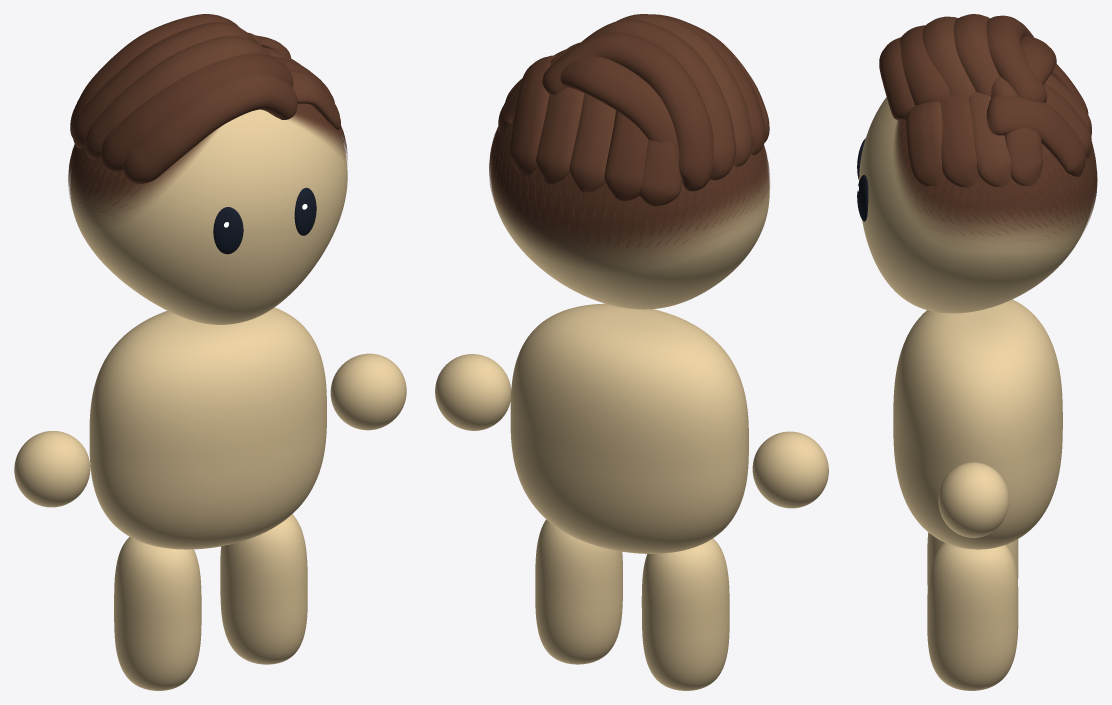
Rendered from Taper-skin1.glb.
The picture shows the model from 3 angles, left to right: view 1: azimuth 30°, elevation 25°; view 2: azimuth 150°, elevation 25°; view 3: azimuth 270°, elevation 25°; orthographic projection. The views are drawn at different scales.
Parts seen in each view (by area): view 1: Skin / compact torso, Skin / soft oval head, Skin / leg -1, Skin / leg 1, Hair / Taper top 0, Hair / Taper short sides, Hair / Taper top 1, Hair / Taper top 2, Skin / hand 1, Skin / hand -1, Hair / Taper top 3, Hair / Taper top 4 (+4 smaller); view 2: Skin / compact torso, Hair / Taper short sides, Skin / soft oval head, Skin / leg -1, Skin / leg 1, Hair / Taper top 4, Hair / Taper rear bridge, Skin / hand -1, Skin / hand 1, Hair / Taper top 3, Hair / Taper fine direction, Hair / Taper top 2 (+6 smaller); view 3: Skin / compact torso, Skin / soft oval head, Hair / Taper short sides, Skin / leg 1, Skin / hand 1, Hair / Taper crown 4, Hair / Taper top 4, Hair / Taper short sweep 1, Hair / Taper short sweep 0, Hair / Taper top 3, Hair / Taper short sweep 2, Hair / Taper top 1 (+10 smaller).
Boxes of the visible parts, x1=… form: Skin / compact torso: x1=89, y1=307, x2=326, y2=549; Skin / soft oval head: x1=70, y1=109, x2=347, y2=324; Skin / leg -1: x1=114, y1=537, x2=201, y2=690; Skin / leg 1: x1=220, y1=514, x2=307, y2=664; Hair / Taper top 0: x1=123, y1=73, x2=297, y2=184; Hair / Taper short sides: x1=68, y1=103, x2=347, y2=221; Hair / Taper top 1: x1=101, y1=53, x2=293, y2=171; Hair / Taper top 2: x1=85, y1=35, x2=272, y2=159; Skin / hand 1: x1=330, y1=353, x2=406, y2=430; Skin / hand -1: x1=14, y1=431, x2=90, y2=507; Hair / Taper top 3: x1=73, y1=22, x2=259, y2=148; Hair / Taper top 4: x1=70, y1=14, x2=239, y2=138; Skin / compact torso: x1=510, y1=303, x2=748, y2=553; Hair / Taper short sides: x1=489, y1=119, x2=769, y2=265; Skin / soft oval head: x1=491, y1=170, x2=769, y2=309; Skin / leg -1: x1=641, y1=538, x2=729, y2=690; Skin / leg 1: x1=535, y1=519, x2=622, y2=664; Hair / Taper top 4: x1=542, y1=32, x2=713, y2=191; Hair / Taper rear bridge: x1=560, y1=56, x2=679, y2=164; Skin / hand -1: x1=752, y1=431, x2=828, y2=508; Skin / hand 1: x1=435, y1=354, x2=511, y2=430; Hair / Taper top 3: x1=582, y1=19, x2=735, y2=180; Hair / Taper fine direction: x1=489, y1=124, x2=769, y2=248; Hair / Taper top 2: x1=616, y1=14, x2=752, y2=166; Skin / compact torso: x1=893, y1=299, x2=1062, y2=549; Skin / soft oval head: x1=859, y1=97, x2=1091, y2=313; Hair / Taper short sides: x1=894, y1=120, x2=1097, y2=243; Skin / leg 1: x1=927, y1=542, x2=1018, y2=690; Skin / hand 1: x1=938, y1=462, x2=1008, y2=537; Hair / Taper crown 4: x1=986, y1=96, x2=1085, y2=176; Hair / Taper top 4: x1=986, y1=15, x2=1047, y2=102; Hair / Taper short sweep 1: x1=940, y1=95, x2=979, y2=187; Hair / Taper short sweep 0: x1=906, y1=101, x2=945, y2=186; Hair / Taper top 3: x1=953, y1=14, x2=999, y2=96; Hair / Taper short sweep 2: x1=969, y1=91, x2=1011, y2=186; Hair / Taper top 1: x1=900, y1=25, x2=949, y2=105.
Bounding box in the file's own units: 1.49 × 2.4 × 0.8289.
